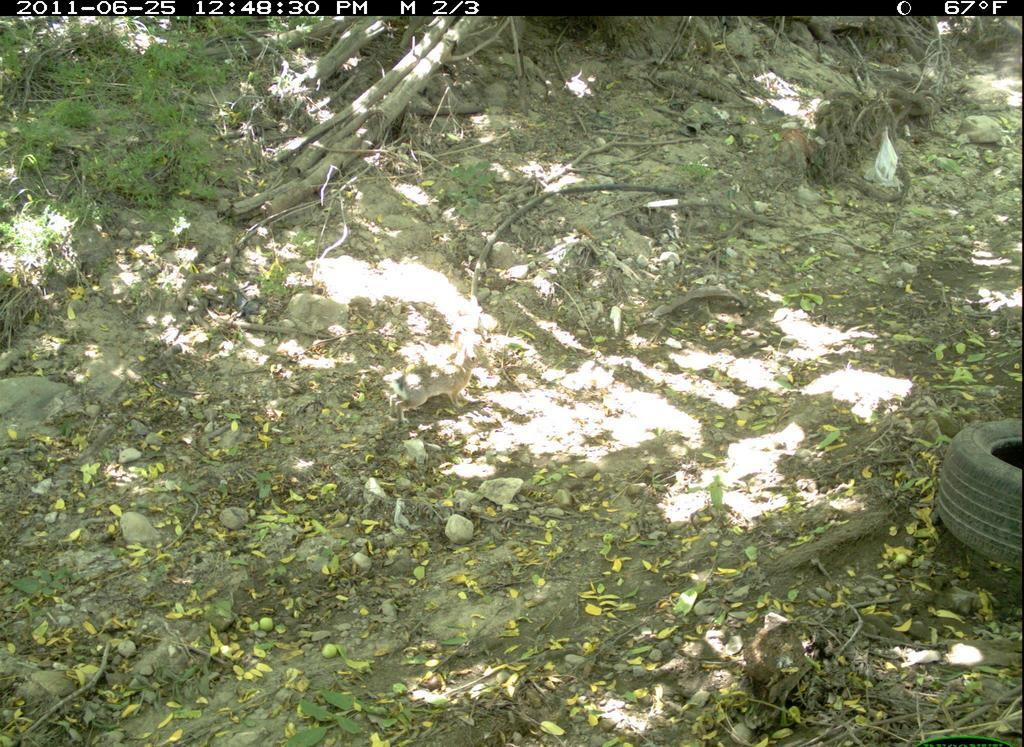rabbit: (380, 328, 486, 431)
